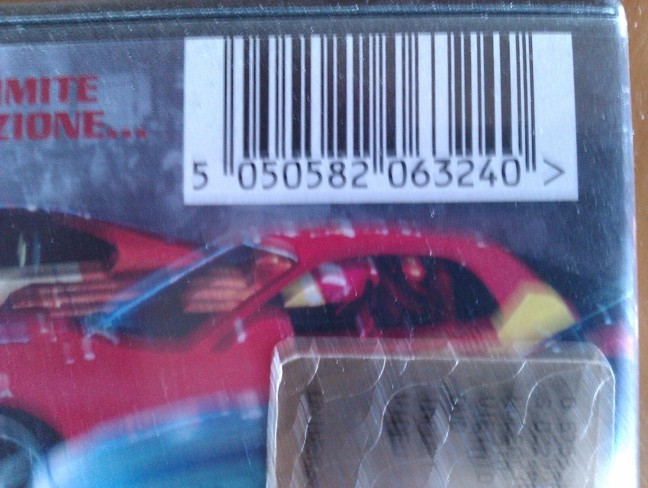detection: (183, 34, 577, 202)
